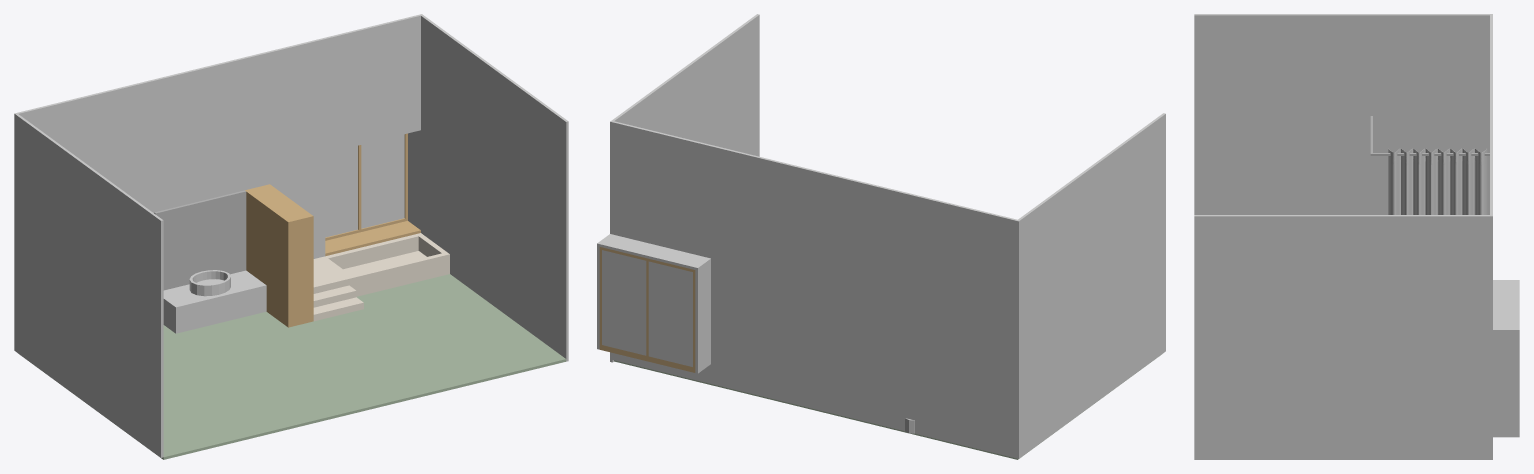
Rendered from Bathroom_v2.fbx.
3 renders of one model, left to right at view 1: azimuth 30°, elevation 25°; view 2: azimuth 150°, elevation 25°; view 3: azimuth 270°, elevation 25°, orthographic.
Parts seen in each view (by area): view 1: 物件_22, 物件_19, 物件_5, 物件_6, 物件_7, 物件_1, 物件_17, 物件_11, 物件_23, 物件_24, 物件_20, 物件_21 (+2 smaller); view 2: 物件_22, 物件_5, 物件_6, 物件_23, 物件_24, 物件_20, 物件_18, 物件_19; view 3: 物件_6, 物件_5, 物件_15, 物件_20, 物件_22.
Boxes of the visible parts, x1,y1,x2,y2 form: 物件_22: [17, 14, 420, 258]; 物件_19: [19, 274, 566, 459]; 物件_5: [14, 113, 163, 457]; 物件_6: [420, 14, 568, 361]; 物件_7: [245, 184, 313, 327]; 物件_1: [313, 233, 449, 321]; 物件_17: [154, 190, 246, 290]; 物件_11: [163, 270, 266, 333]; 物件_23: [361, 134, 404, 228]; 物件_24: [325, 145, 357, 237]; 物件_20: [322, 127, 420, 256]; 物件_21: [325, 221, 420, 256]; 物件_22: [612, 121, 1017, 458]; 物件_5: [1016, 113, 1165, 458]; 物件_6: [610, 14, 759, 362]; 物件_23: [602, 250, 646, 355]; 物件_24: [648, 261, 692, 366]; 物件_20: [597, 234, 710, 373]; 物件_18: [599, 247, 695, 370]; 物件_19: [614, 355, 1160, 459]; 物件_6: [1194, 215, 1492, 459]; 物件_5: [1194, 14, 1492, 214]; 物件_15: [1388, 148, 1487, 214]; 物件_20: [1490, 280, 1519, 437]; 物件_22: [1490, 15, 1492, 214].
Bounding box in the file's own units: 16.2 × 11 × 9.1.
